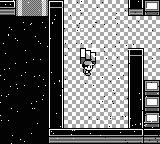main: (82, 61, 95, 74)
no-caminable: (0, 16, 48, 144), (49, 1, 64, 129), (49, 129, 144, 143), (129, 48, 142, 128), (143, 80, 160, 128), (144, 0, 160, 15), (128, 0, 143, 15), (1, 0, 16, 15), (144, 130, 160, 143)
puerta: (15, 0, 48, 16), (80, 48, 96, 63)
